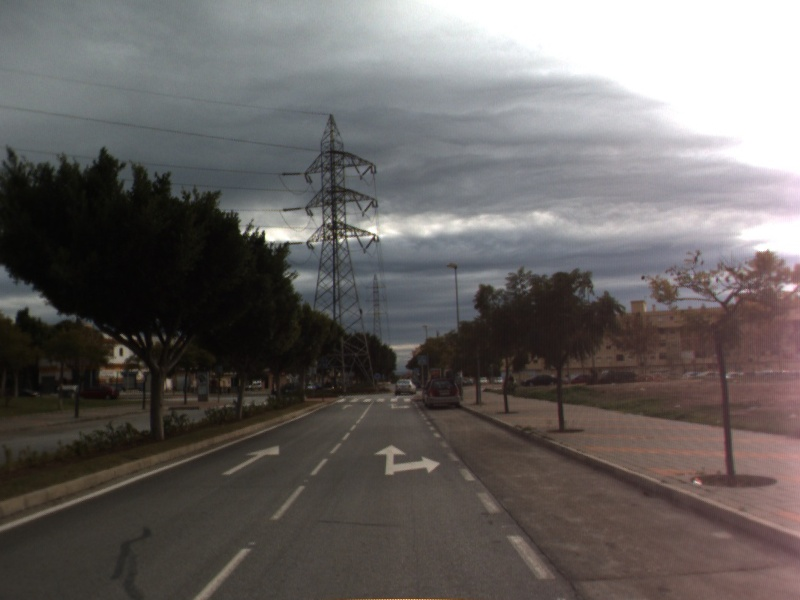STRAIGHT: (219, 443, 282, 477), (340, 402, 355, 411)
STRAIGHT_RIGHT: (372, 443, 443, 477), (386, 402, 413, 411)
